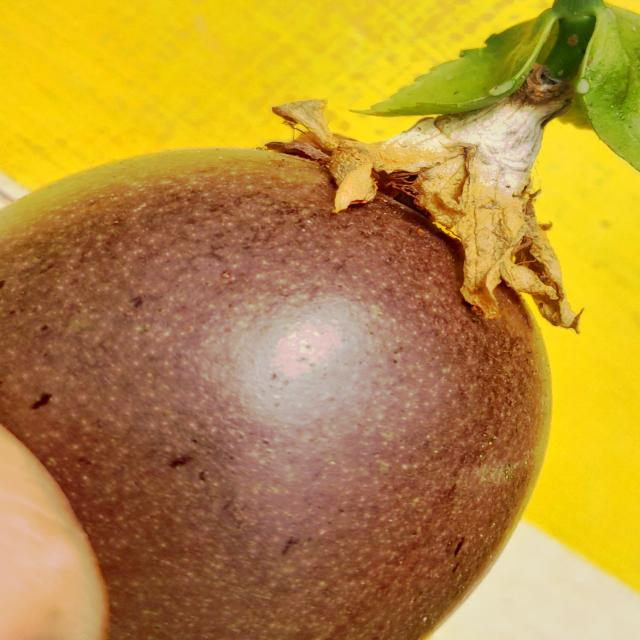Estado-4: (0, 0, 640, 640)
